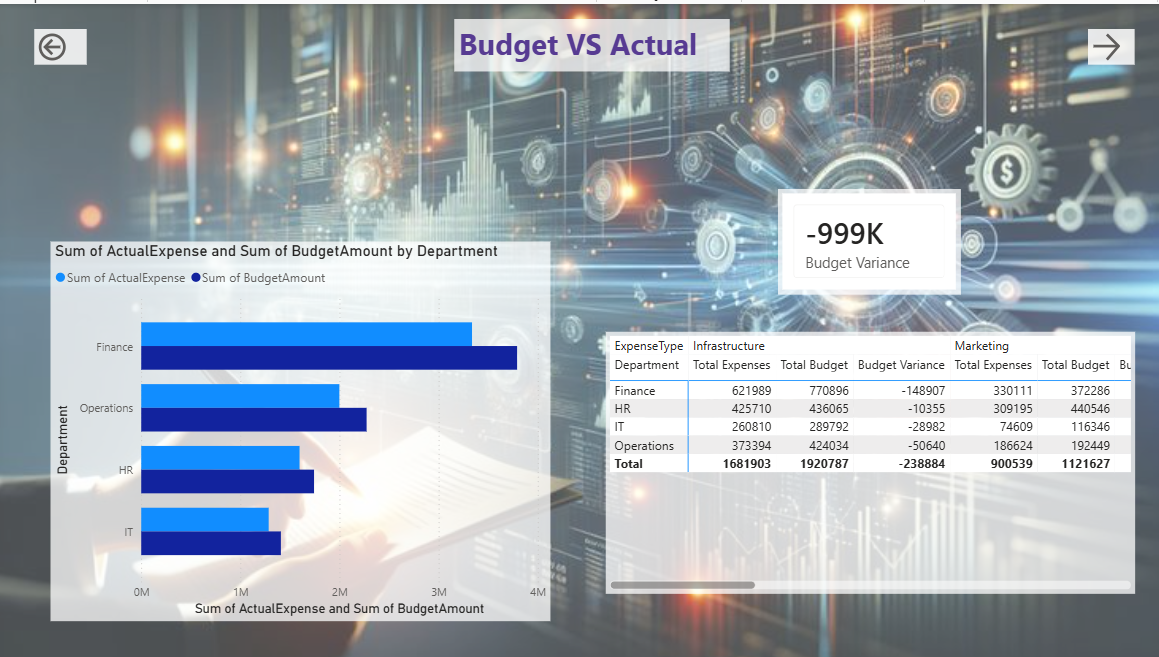

What the dashboard file says about the page in this screenshot:
{"tool":"powerbi","page":{"name":"Budget vs Actual","canvas":[1280,720],"ordinal":3},"visuals":[{"type":"clusteredBarChart","fields":{"Category":["Financial_Expense_Optimization_50Rows.Department"],"Y":["Sum(Financial_Expense_Optimization_50Rows.ActualExpense)","Sum(Financial_Expense_Optimization_50Rows.BudgetAmount)"]},"box":[57.9,261.1,549.1,416.4],"z":0},{"type":"pivotTable","fields":{"Rows":["Financial_Expense_Optimization_50Rows.Department"],"Columns":["Financial_Expense_Optimization_50Rows.ExpenseType"],"Values":["Financial_Expense_Optimization_50Rows.Total Expenses","Financial_Expense_Optimization_50Rows.Total Budget","Financial_Expense_Optimization_50Rows.Budget Variance"]},"box":[666.3,359.9,581.6,288],"z":1000},{"type":"cardVisual","fields":{"Data":["Financial_Expense_Optimization_50Rows.Budget Variance"]},"box":[856.8,203.3,200.4,115.7],"z":2000},{"type":"actionButton","box":[39.5,26.8,57.9,39.5],"z":2001},{"type":"actionButton","box":[1197,26.8,50.8,39.5],"z":2002},{"type":"textbox","box":[501.1,16.9,302.1,57.9],"z":2003}]}

Visuals, with their boxes in screenshot pixels (x1, y1, x2, y2), scaled from the page's 1280x720 canvas onto the 1159x657 screenshot:
clusteredBarChart - Financial_Expense_Optimization_50Rows.Department x Sum(Financial_Expense_Optimization_50Rows.ActualExpense): 52, 238, 550, 618
pivotTable - Financial_Expense_Optimization_50Rows.Department x Financial_Expense_Optimization_50Rows.ExpenseType: 603, 328, 1130, 591
cardVisual - Financial_Expense_Optimization_50Rows.Budget Variance: 776, 186, 957, 291
actionButton: 36, 24, 88, 60
actionButton: 1084, 24, 1130, 60
textbox: 454, 15, 727, 68
